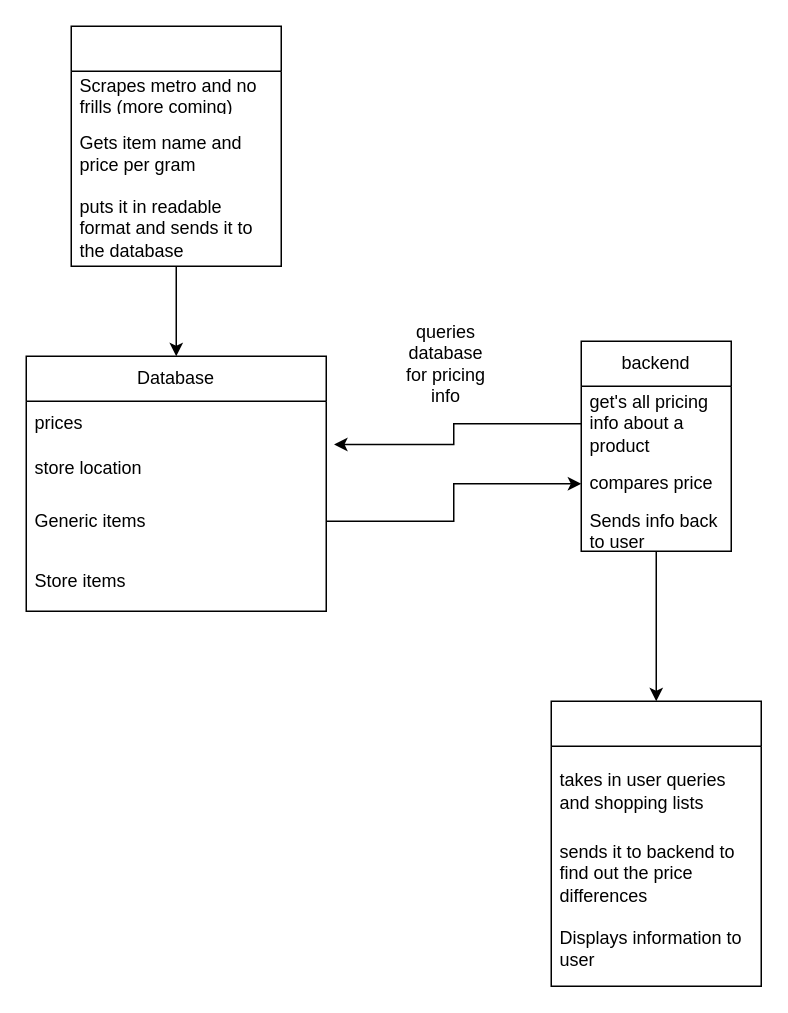
Some shapes in this 788 by 1013 pixel diagram are drawn without their labels. Here are the shapes that lost their labels. From the top down, the box of each, then its label:
(70, 25, 281, 266): Scraper
(550, 700, 761, 986): Frontend
